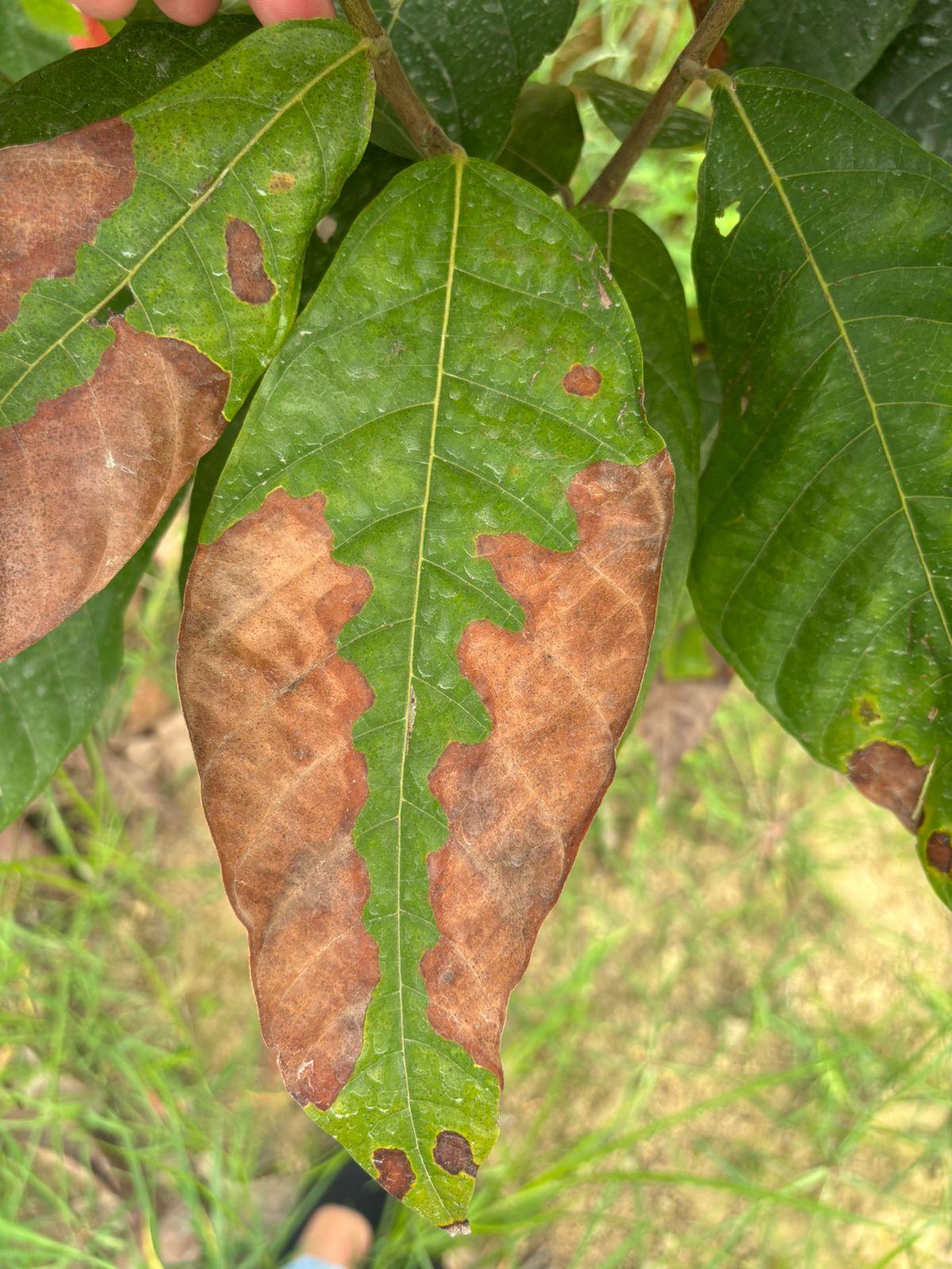Potasio: (178, 156, 672, 1229), (0, 23, 372, 655)
